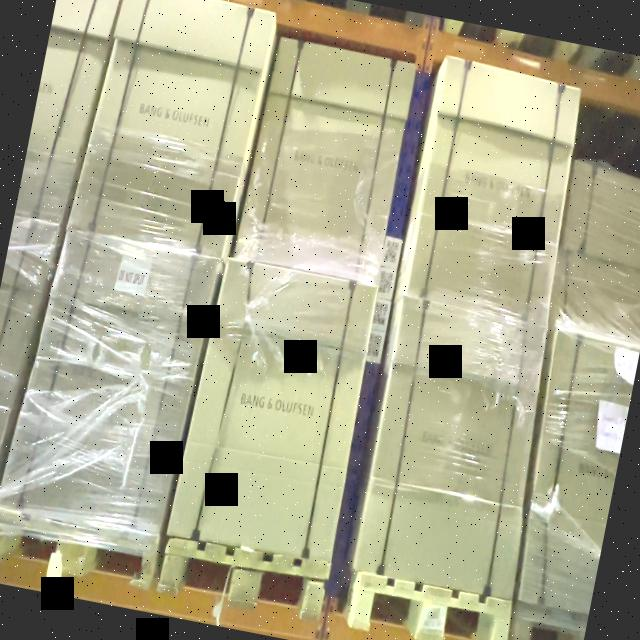box: (0, 230, 222, 535), (163, 259, 379, 567), (352, 295, 550, 603), (65, 0, 278, 261), (400, 53, 582, 325), (230, 39, 417, 289)
